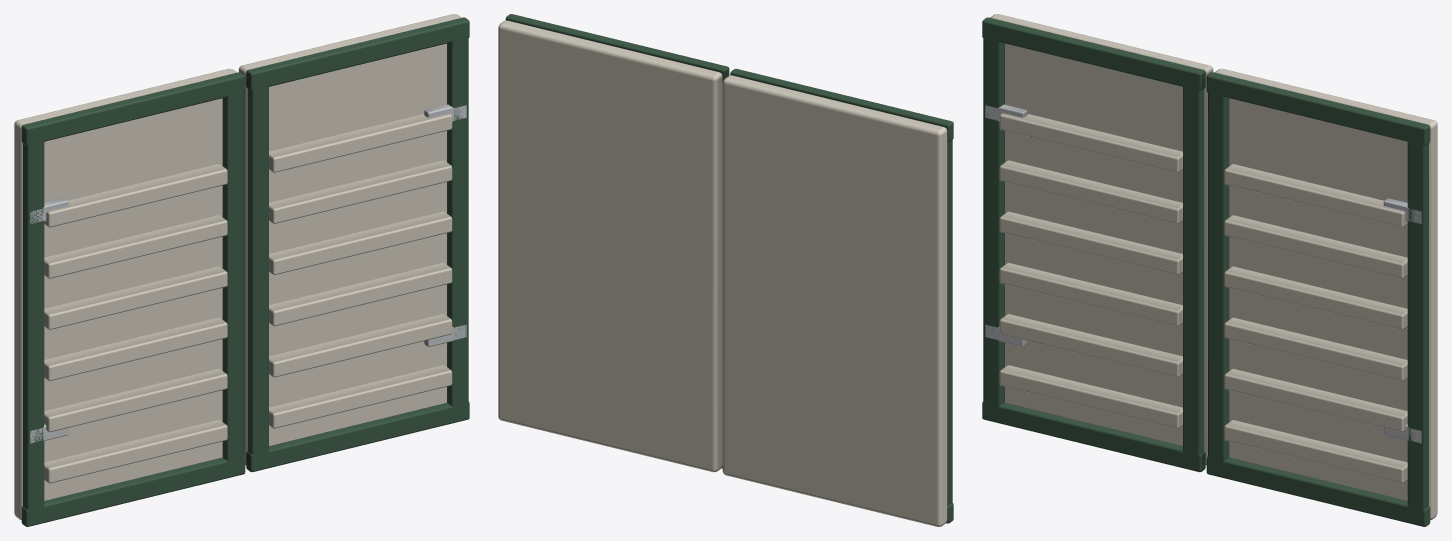
Rendered from shutters.glb.
3 renders of one model, left to right at view 1: azimuth 30°, elevation 25°; view 2: azimuth 150°, elevation 25°; view 3: azimuth 330°, elevation 25°, orthographic.
Visible parts, largest first — view 1: panel1, panel0, stile0b, stile1b, stile1a, stile0a, rail11, rail01, rail00, rail10, louvre10, louvre14 (+10 smaller); view 2: panel1, panel0, stile1b, rail11, rail01; view 3: panel0, panel1, stile1a, stile0a, stile0b, stile1b, rail01, rail11, rail10, rail00, louvre00, louvre04 (+10 smaller).
Boxes of the visible parts, x1=… form: panel1: x1=14, y1=68, x2=236, y2=519; panel0: x1=238, y1=14, x2=461, y2=465; stile0b: x1=247, y1=73, x2=268, y2=468; stile1b: x1=23, y1=128, x2=44, y2=520; stile1a: x1=222, y1=79, x2=243, y2=474; stile0a: x1=447, y1=27, x2=468, y2=419; rail11: x1=21, y1=72, x2=245, y2=145; rail01: x1=246, y1=17, x2=469, y2=90; rail00: x1=246, y1=401, x2=469, y2=472; rail10: x1=21, y1=456, x2=245, y2=526; louvre10: x1=44, y1=420, x2=227, y2=483; louvre14: x1=44, y1=215, x2=227, y2=278; panel1: x1=722, y1=75, x2=947, y2=526; panel0: x1=498, y1=20, x2=722, y2=472; stile1b: x1=947, y1=140, x2=952, y2=506; rail11: x1=730, y1=68, x2=953, y2=142; rail01: x1=505, y1=14, x2=729, y2=82; panel0: x1=1215, y1=68, x2=1437, y2=519; panel1: x1=990, y1=14, x2=1213, y2=465; stile1a: x1=1183, y1=73, x2=1204, y2=468; stile0a: x1=1407, y1=128, x2=1428, y2=520; stile0b: x1=1208, y1=79, x2=1229, y2=474; stile1b: x1=983, y1=25, x2=1004, y2=420; rail01: x1=1206, y1=72, x2=1430, y2=145; rail11: x1=982, y1=17, x2=1205, y2=90; rail10: x1=982, y1=401, x2=1205, y2=472; rail00: x1=1206, y1=456, x2=1430, y2=526; louvre00: x1=1224, y1=420, x2=1407, y2=483; louvre04: x1=1224, y1=215, x2=1407, y2=278.
Bounding box in the file's own units: 0.89 × 0.765 × 0.0575.
